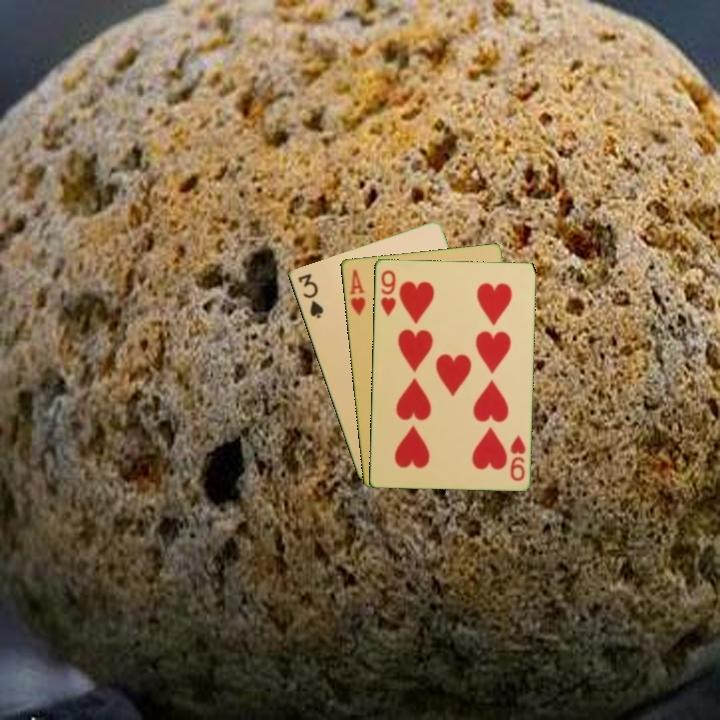3s: (294, 269, 326, 321)
9h: (506, 431, 528, 484), (377, 266, 398, 318)
Ah: (346, 266, 368, 318)
